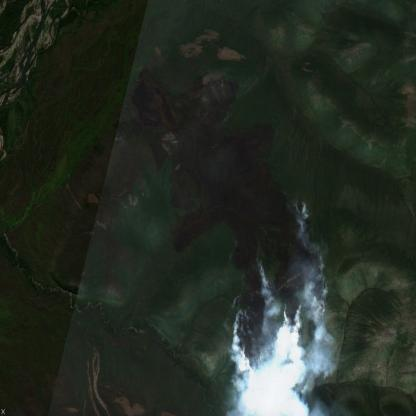fire: (228, 198, 330, 376)
